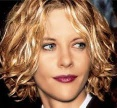female: (27, 5, 100, 104)
